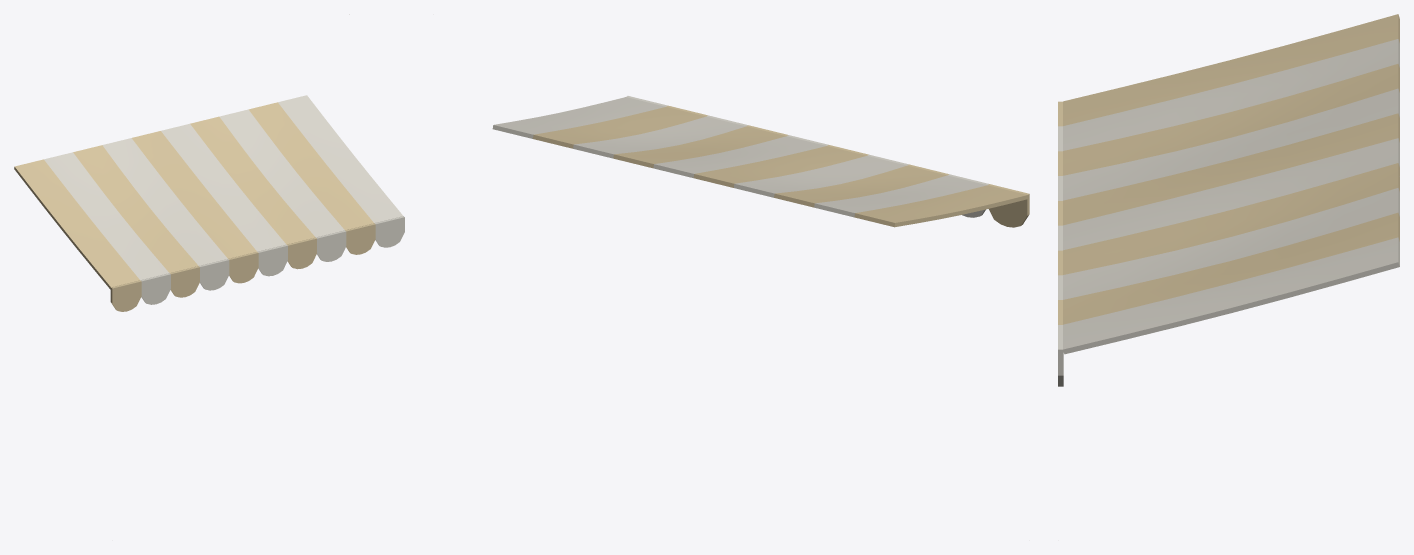
File: FishBuyerStand_canvas.glb
The picture shows the model from 3 angles, left to right: view 1: azimuth 30°, elevation 25°; view 2: azimuth 150°, elevation 25°; view 3: azimuth 270°, elevation 25°; orthographic projection. The views are drawn at different scales.
Parts seen in each view (by area): view 1: FishBuyerStand_canvas; view 2: FishBuyerStand_canvas; view 3: FishBuyerStand_canvas.
Part boxes in pixels (<box>): FishBuyerStand_canvas: <box>14,14,404,311</box>; FishBuyerStand_canvas: <box>492,96,1029,227</box>; FishBuyerStand_canvas: <box>1058,14,1399,386</box>.
Bounding box in the file's own units: 12.05 × 12.8 × 6.11.
